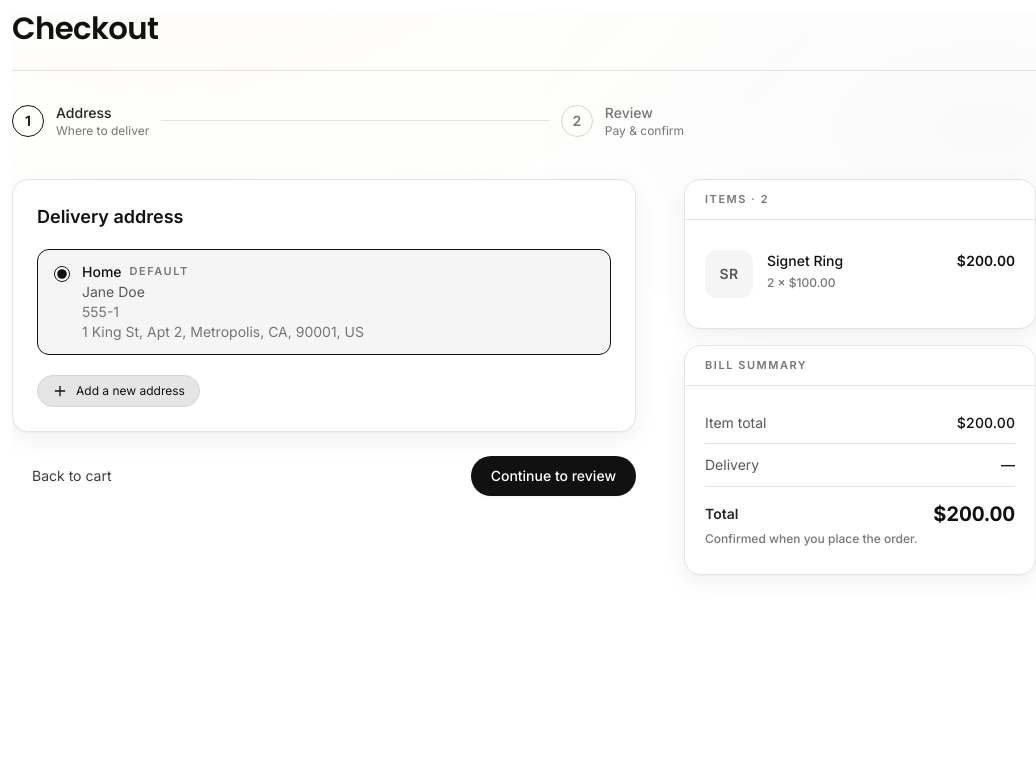
Scenario: Checkout (WP-2.5) › payment methods reflect the store flags — online only, and defaults to it
Expected: the heading "Delivery address" is shown, [37,206,184,227]
What coordinates should you click on to do the following:
click the radio button labelled "Home"
I would click on:
 (62, 274)
Its box is [54,266,70,282].
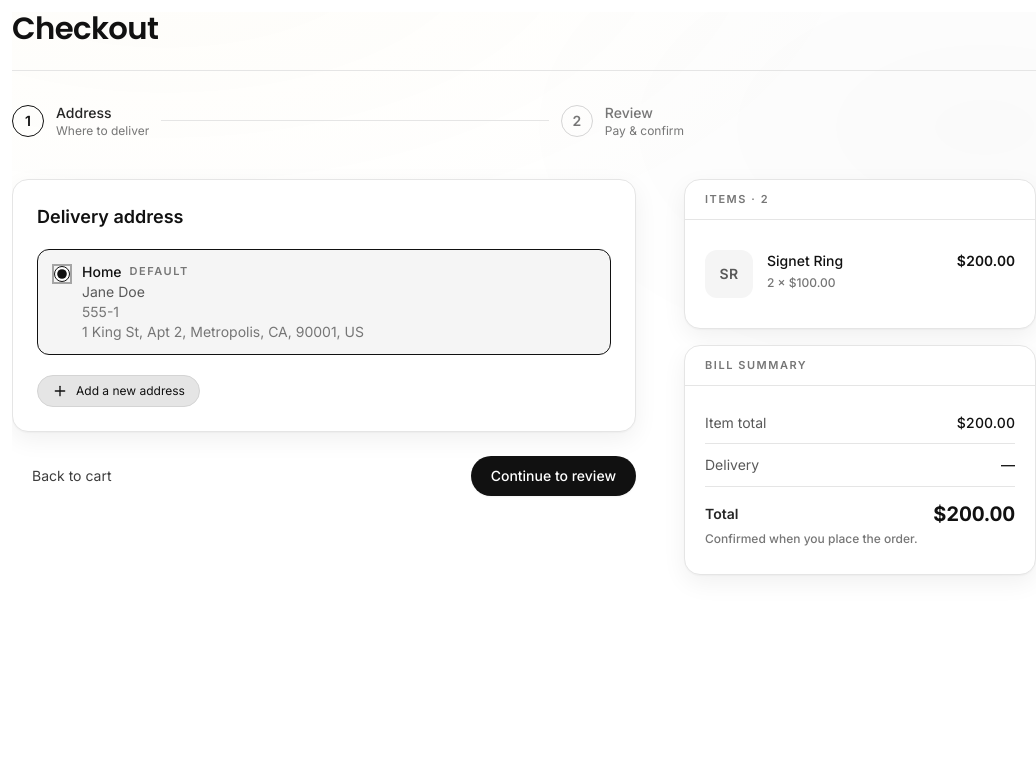
What coordinates should you click on to do the following:
click the button "Continue to review"
I would click on:
 (553, 476)
Its box is [471,456,636,496].
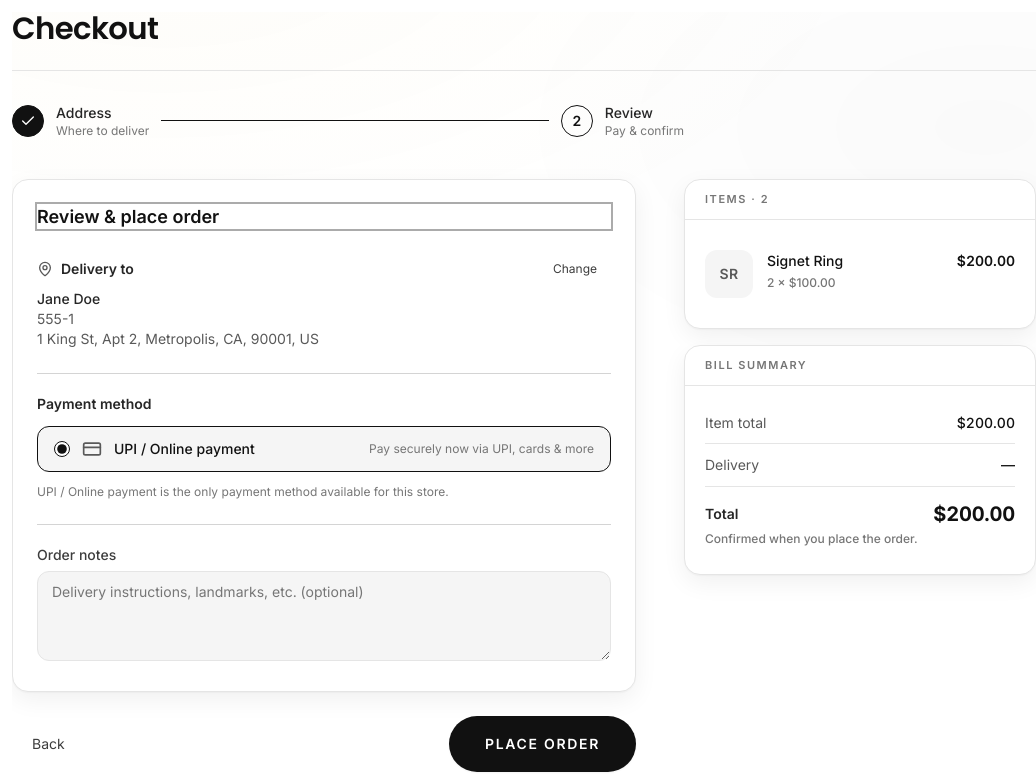
Result: the heading "Payment method" is shown at [37,395,152,412]
Result: the text "UPI / Online payment" is shown at [114,439,255,459]
Result: the radio button labelled "UPI / Online payment Pay securely now via UPI, cards & more" is checked at [54,441,70,457]
